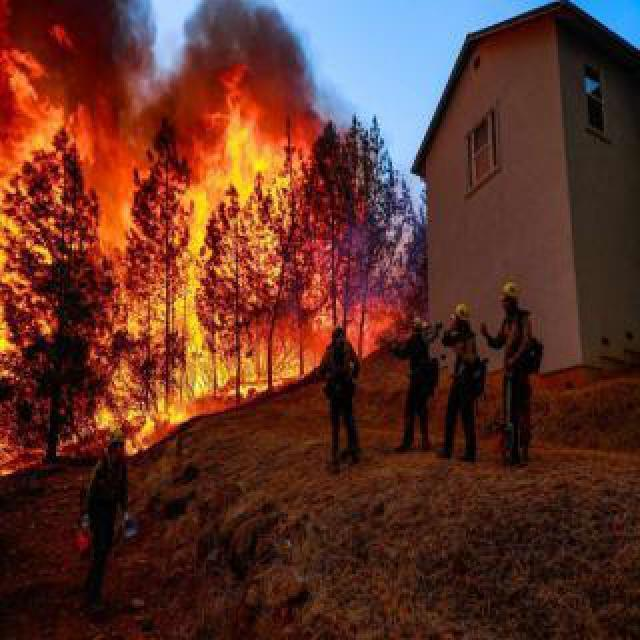Fire: (2, 212, 332, 414), (172, 86, 294, 214), (86, 130, 170, 214), (122, 412, 196, 460)
